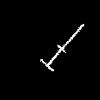double_crochet: (41, 24, 83, 70)
